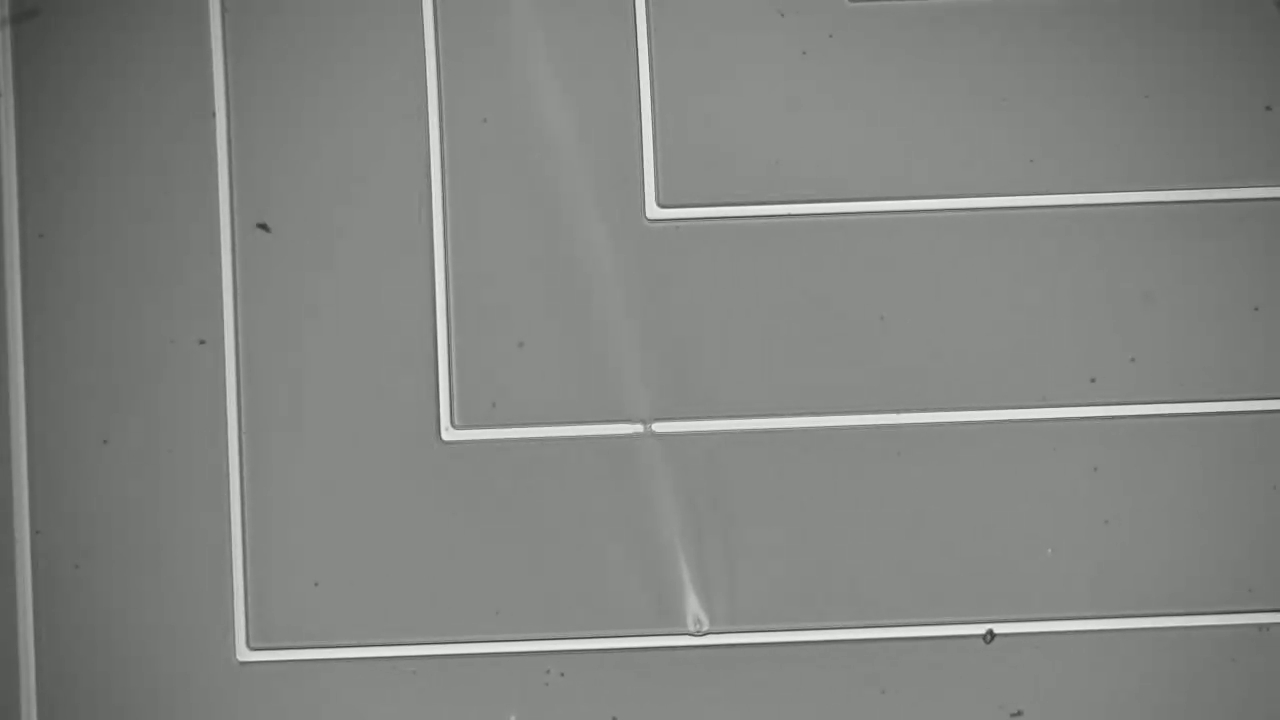open: (620, 404, 676, 443)
stains_enbedded: (976, 613, 1008, 651)
